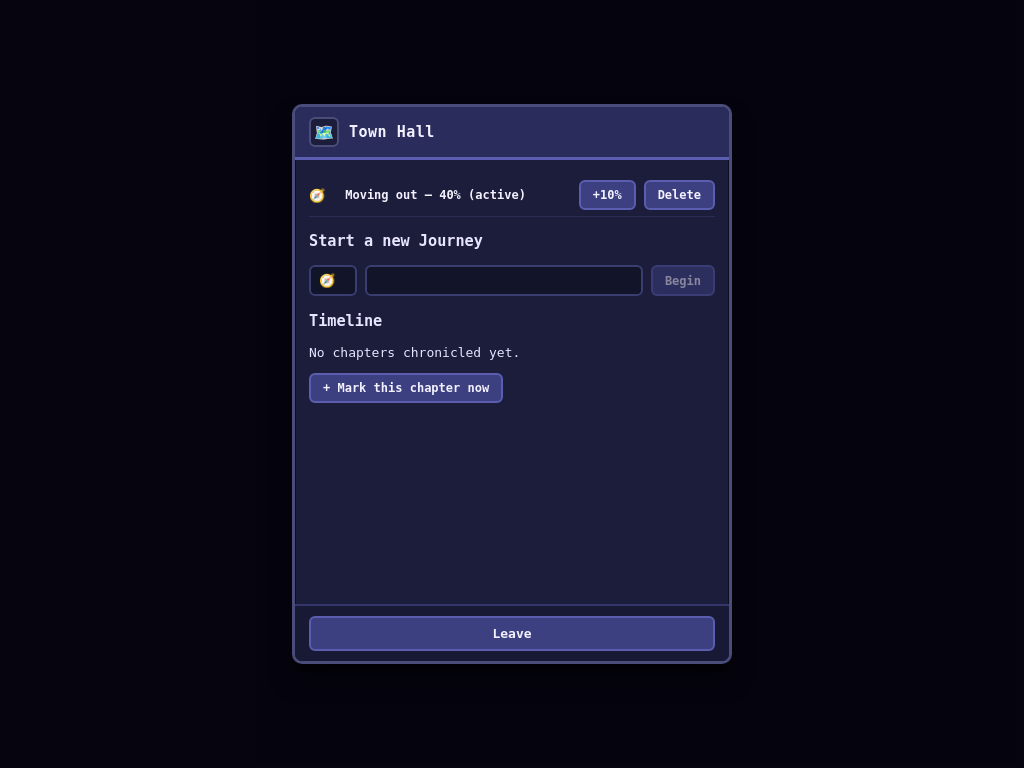
TownHallOverlay › Journey links (overlay quality-parity audit, task #79) › expanding a Journey shows a real unlink button per linked item
Click the button "Moving out — 40% (active)". click: click(452, 195)
box: top-left (333, 182), bottom-right (571, 208)
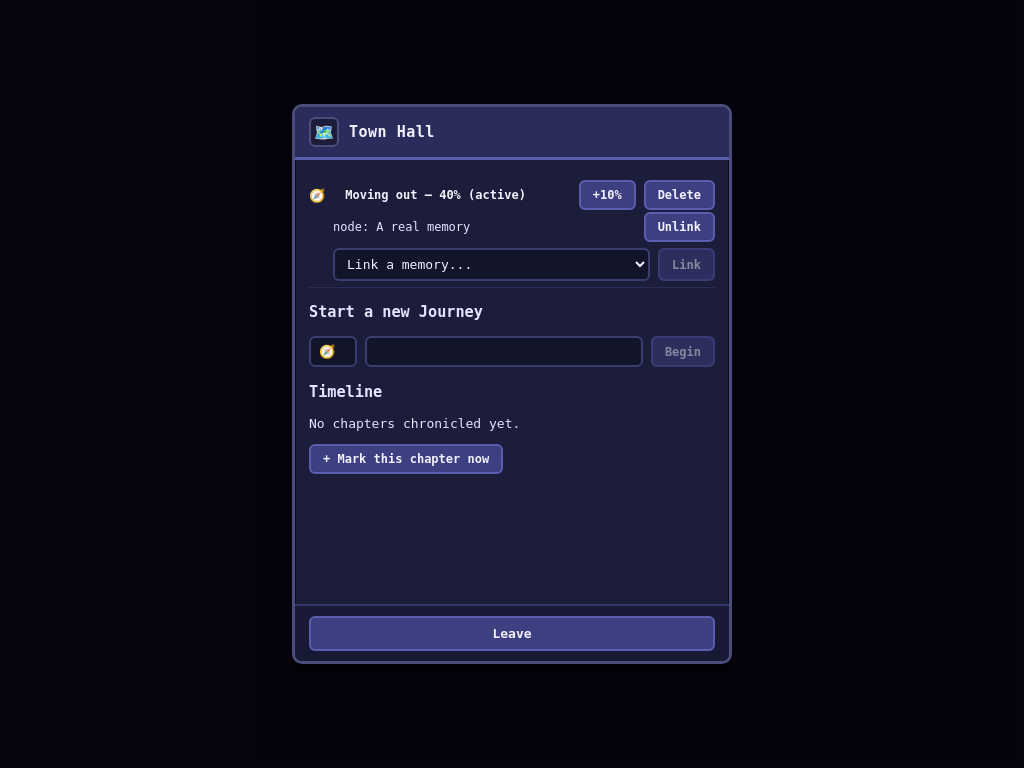
Expected: the button with aria-label "Unlink A real memory" is shown, top-left (644, 212), bottom-right (715, 242)
